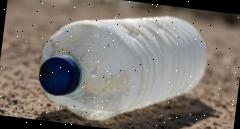plastic: (32, 0, 212, 129)
